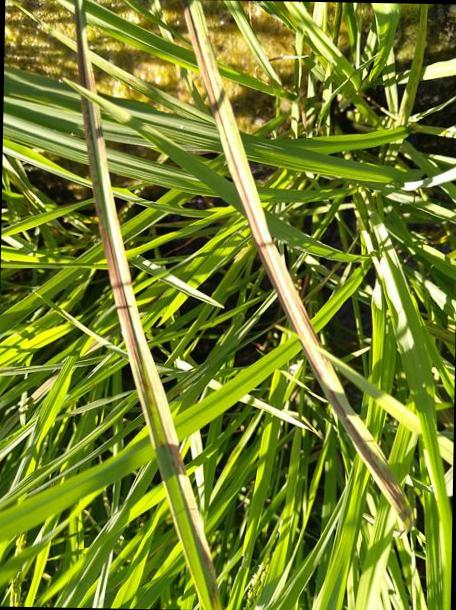Leaf Streak: (184, 0, 398, 500), (74, 0, 217, 610)
